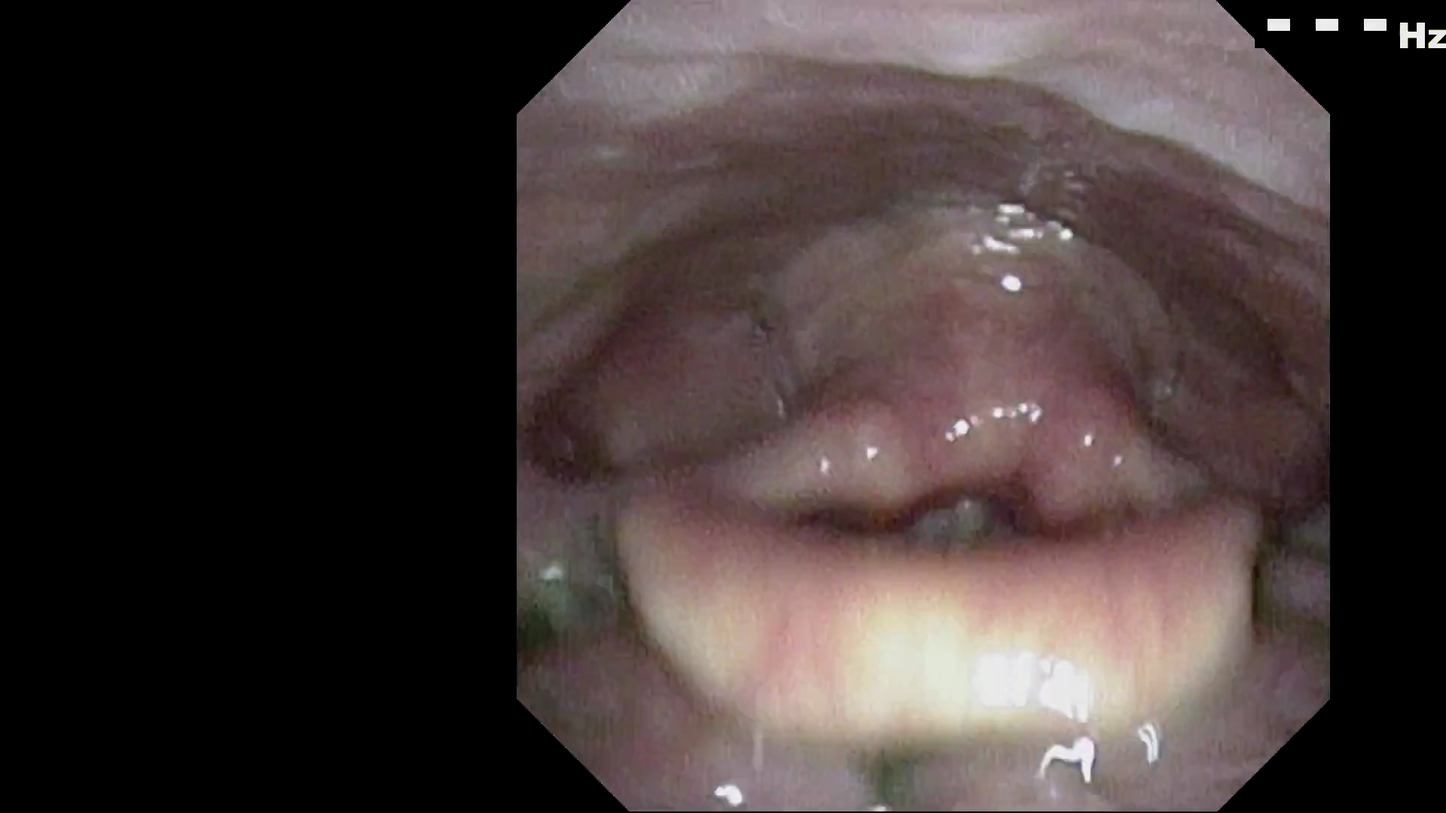epiglottis: (537, 473, 1324, 774)
trachea: (868, 416, 1050, 629)
